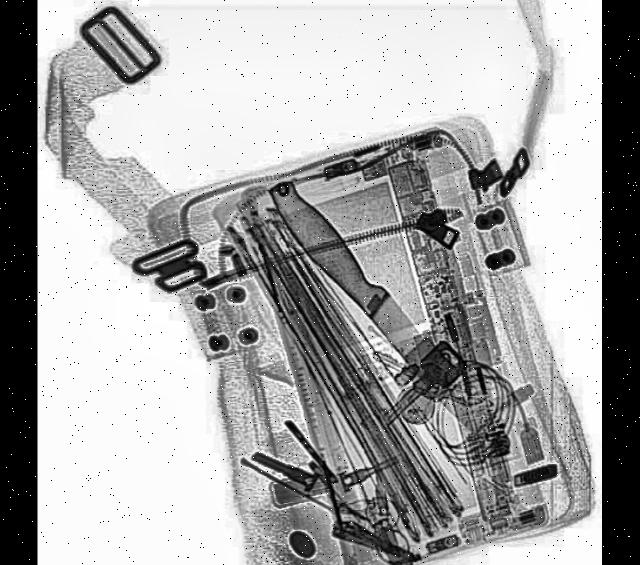Knife: (260, 169, 482, 446)
